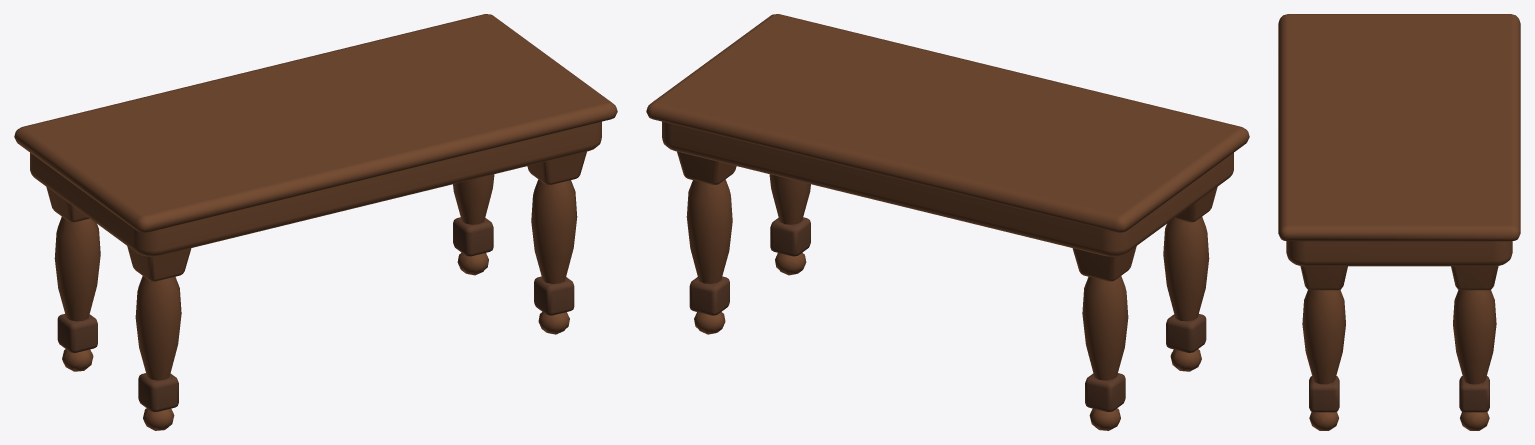
The model's file is mesa_jantar_natal_madeira_pacote.glb.
The picture shows the model from 3 angles, left to right: view 1: azimuth 30°, elevation 25°; view 2: azimuth 150°, elevation 25°; view 3: azimuth 270°, elevation 25°; orthographic projection. The views are drawn at different scales.
Visible parts, largest first — view 1: mesa_jantar_natal_madeira_pacote; view 2: mesa_jantar_natal_madeira_pacote; view 3: mesa_jantar_natal_madeira_pacote.
Part boxes in pixels (bbox=[...]): mesa_jantar_natal_madeira_pacote: bbox=[14, 14, 617, 430]; mesa_jantar_natal_madeira_pacote: bbox=[646, 14, 1249, 430]; mesa_jantar_natal_madeira_pacote: bbox=[1278, 14, 1520, 430].
Size of the model in its own units: 1.6 by 0.7527 by 0.75.
Materials: 1 (1 with a texture image).
